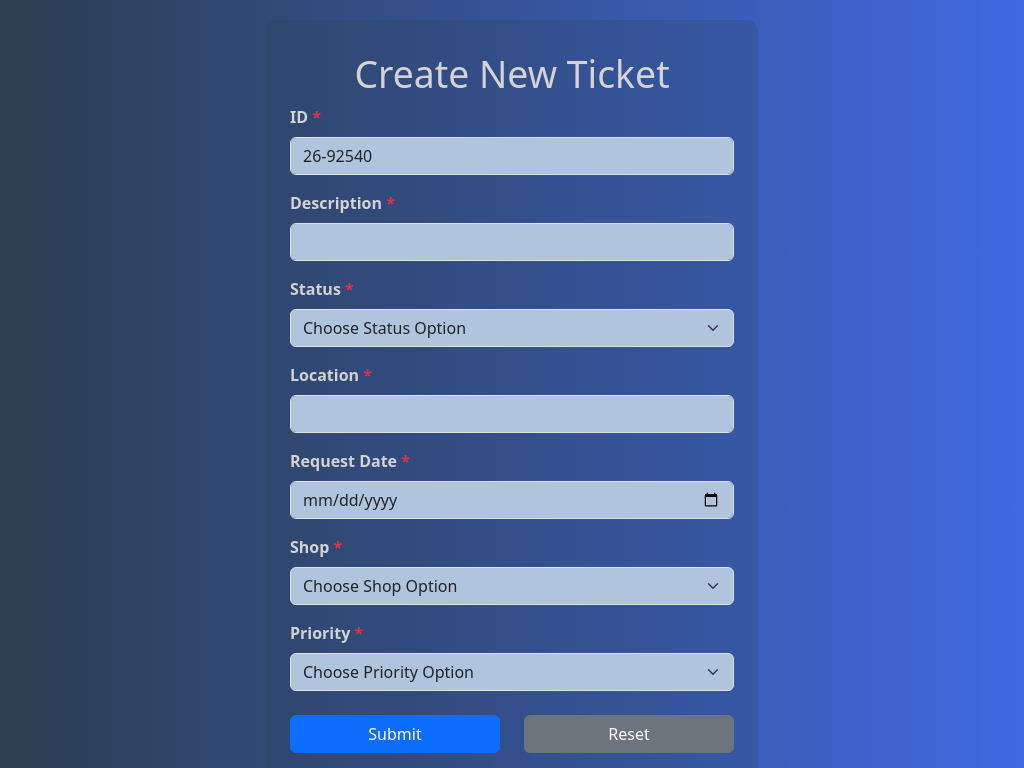
Scenario: TicketForm Component › form reset works as expected
This screenshot has width=1024, height=768.
# Fill the form with data
In the field labelled "Description *": (512, 242) 290,223 -> 734,261, type "Test Description"
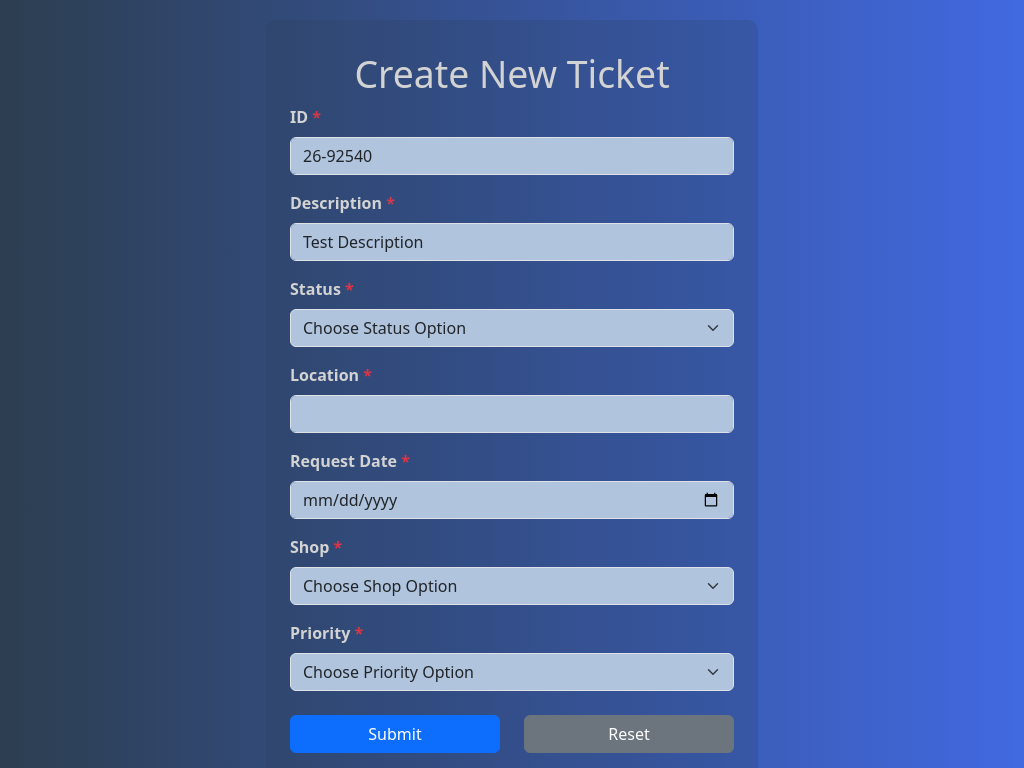
Select "Open" in the dropdown labelled "Status *": (512, 328) 290,309 -> 734,347
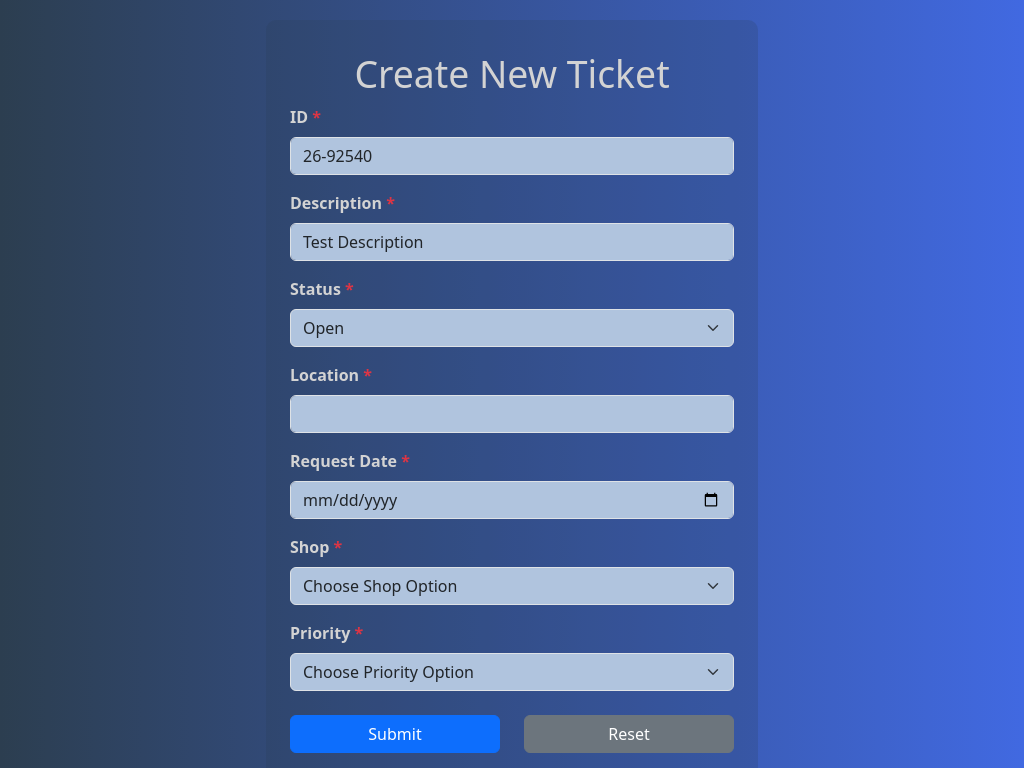
In the field labelled "Location *": (512, 414) 290,395 -> 734,433, type "Test Location"
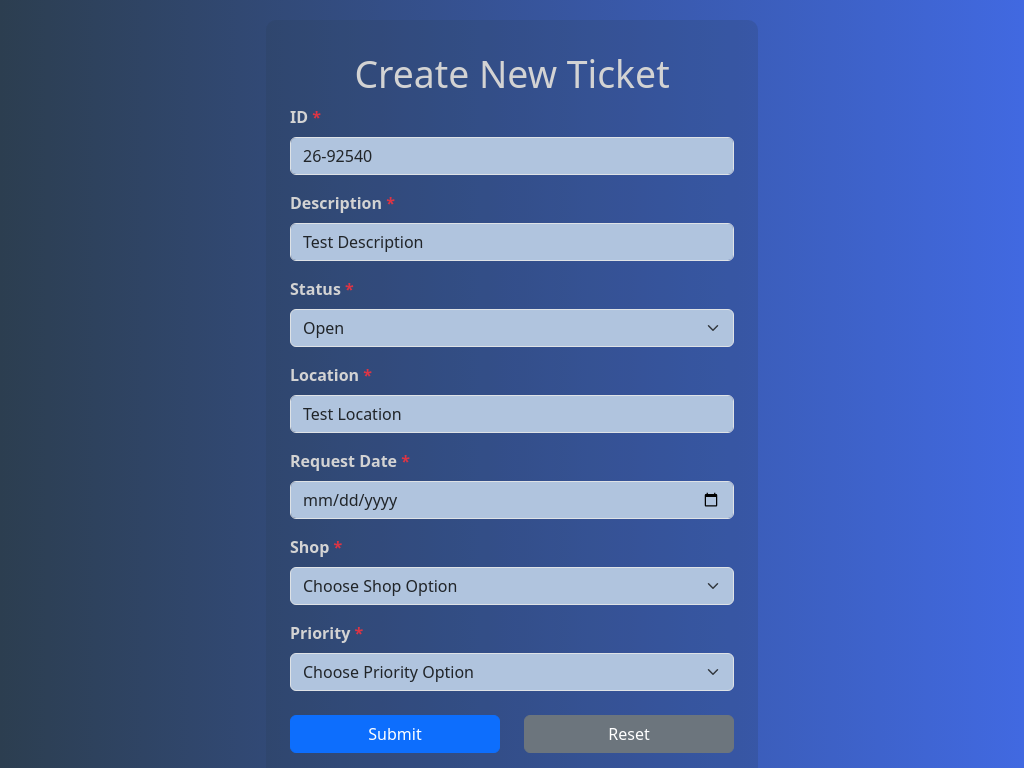
In the date field labelled "Request Date *": (512, 500) 290,481 -> 734,519, type "2024-12-01"
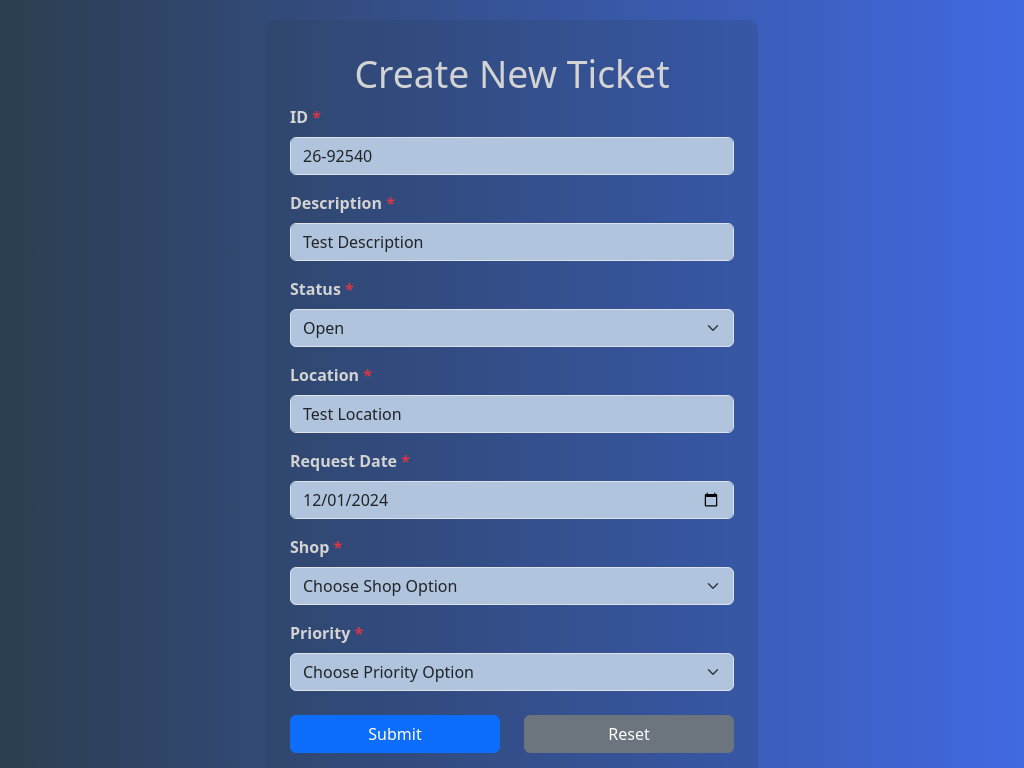
Select "Test Shop" in the dropdown labelled "Shop *": (512, 586) 290,567 -> 734,605
Select "High" in the dropdown labelled "Priority *": (512, 672) 290,653 -> 734,691
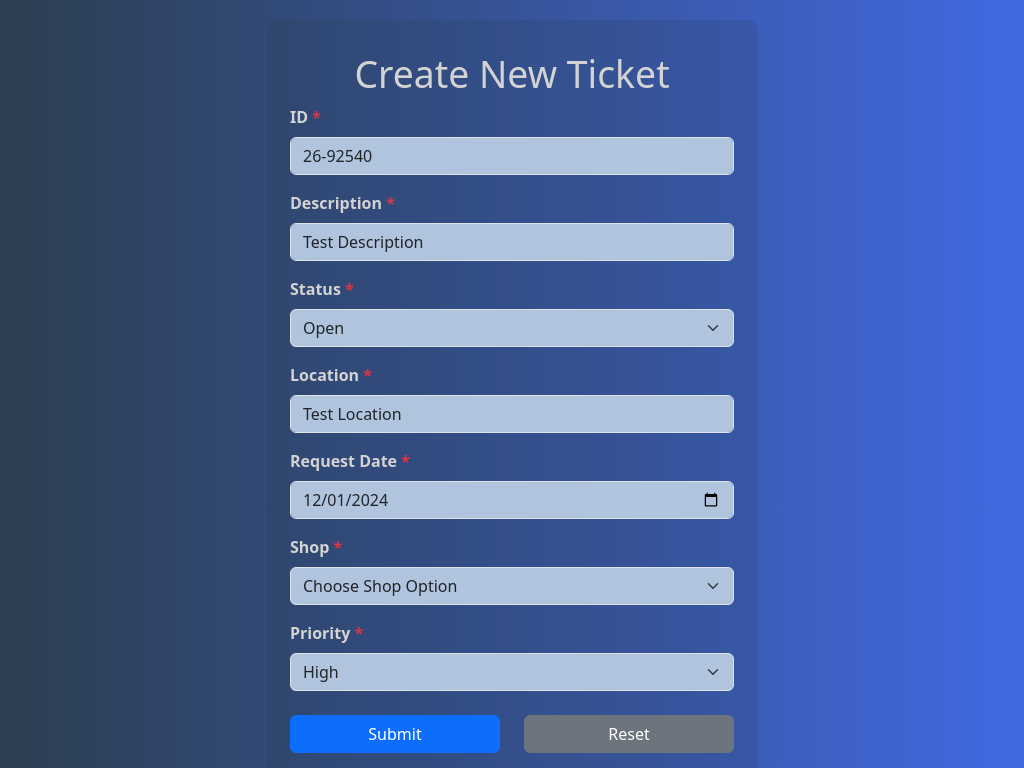
# Reset the form
Click the button "Reset": (629, 734) 524,715 -> 734,753
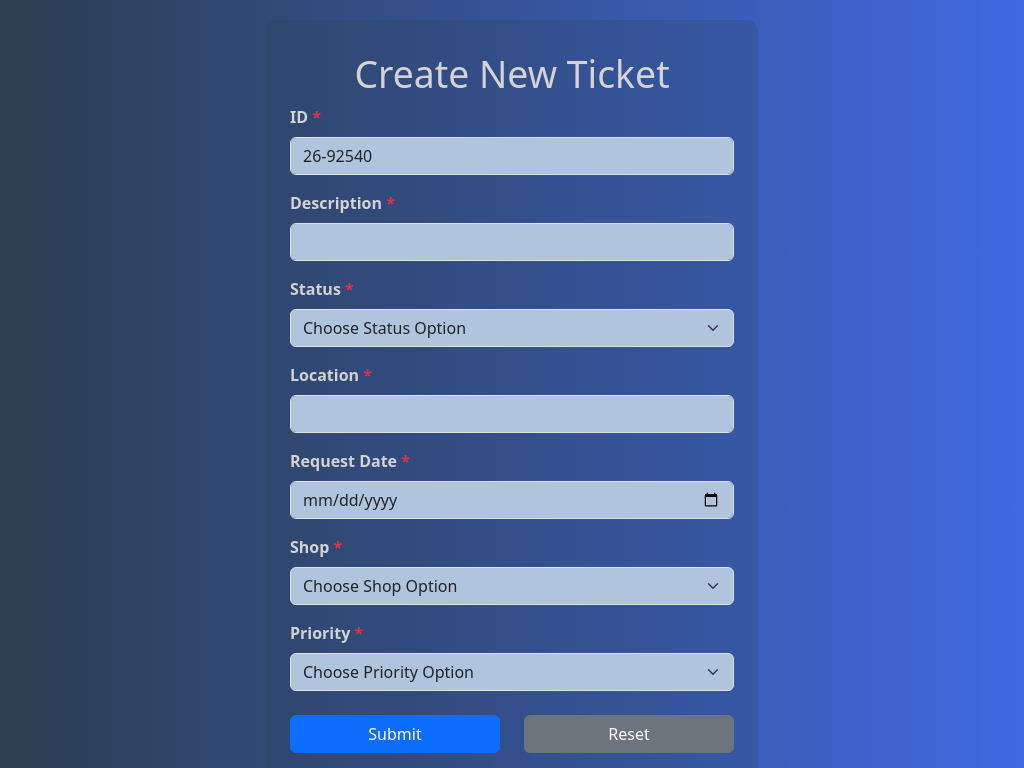
expect the field labelled "Description *" is empty: met, box 290,223 -> 734,261
expect the field labelled "Location *" is empty: met, box 290,395 -> 734,433
expect the date field labelled "Request Date *" is empty: met, box 290,481 -> 734,519
